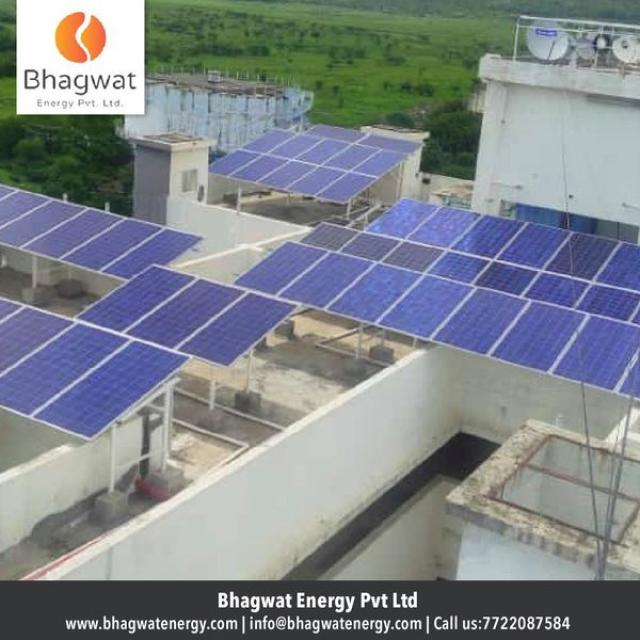clean-solar-panel: (236, 200, 640, 397), (0, 265, 294, 439)
